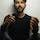eyeglasses: (13, 0, 26, 5)
